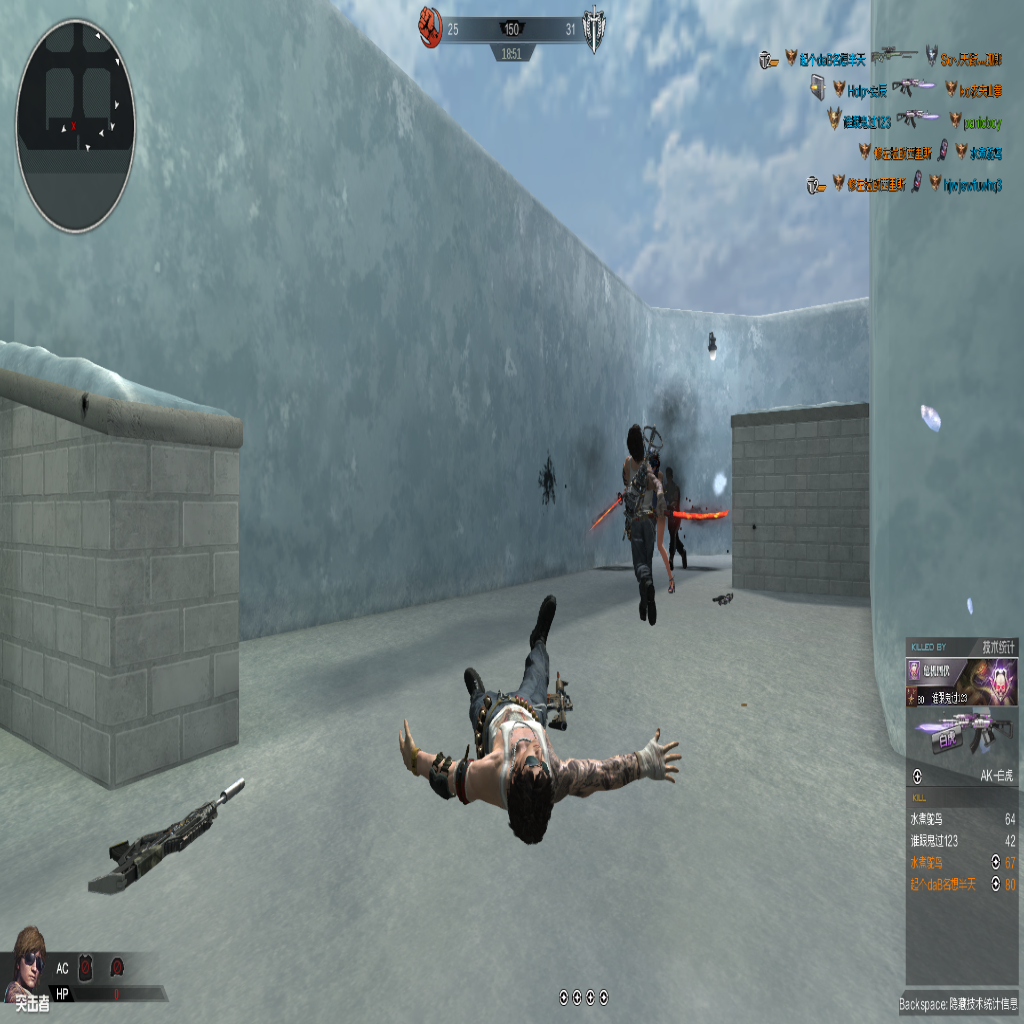ct: (661, 463, 686, 579)
tt: (623, 430, 666, 624)
